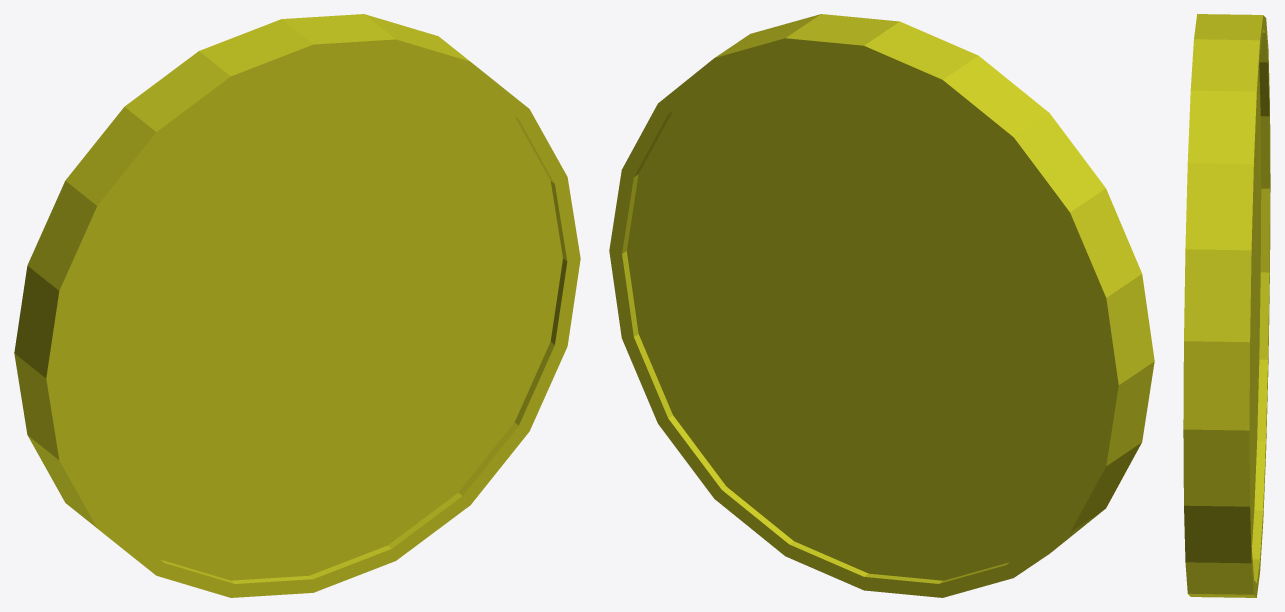
File: Low Poly Coin_000167.obj
The picture shows the model from 3 angles, left to right: view 1: azimuth 30°, elevation 25°; view 2: azimuth 150°, elevation 25°; view 3: azimuth 270°, elevation 25°; orthographic projection. The views are drawn at different scales.
Visible parts, largest first — view 1: Cylinder; view 2: Cylinder; view 3: Cylinder.
Part boxes in pixels (x1=…): Cylinder: x1=14, y1=14, x2=580, y2=597; Cylinder: x1=609, y1=14, x2=1154, y2=597; Cylinder: x1=1183, y1=14, x2=1270, y2=597.
Bounding box in the file's own units: 2.01 × 2 × 0.2966.
